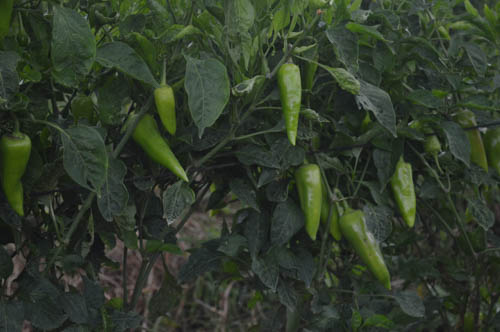ChiliPepper: (340, 210, 393, 284), (136, 118, 187, 180), (3, 135, 32, 211), (293, 166, 322, 239), (392, 162, 418, 229), (278, 64, 299, 146), (458, 110, 486, 170), (318, 183, 343, 242), (151, 87, 180, 135)
